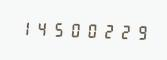five: (49, 18, 64, 39)
four: (33, 18, 48, 38)
nine: (129, 21, 144, 42)
one: (17, 17, 32, 38)
two: (97, 20, 112, 41), (113, 21, 128, 41)
zero: (81, 19, 96, 40), (65, 19, 80, 39)
